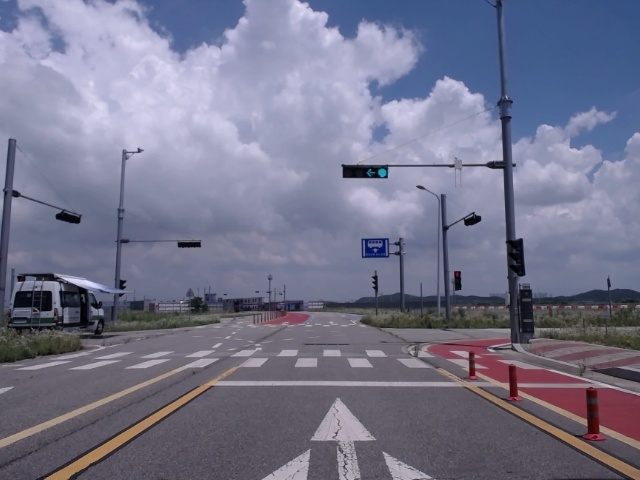all_green_4: (343, 164, 389, 180)
